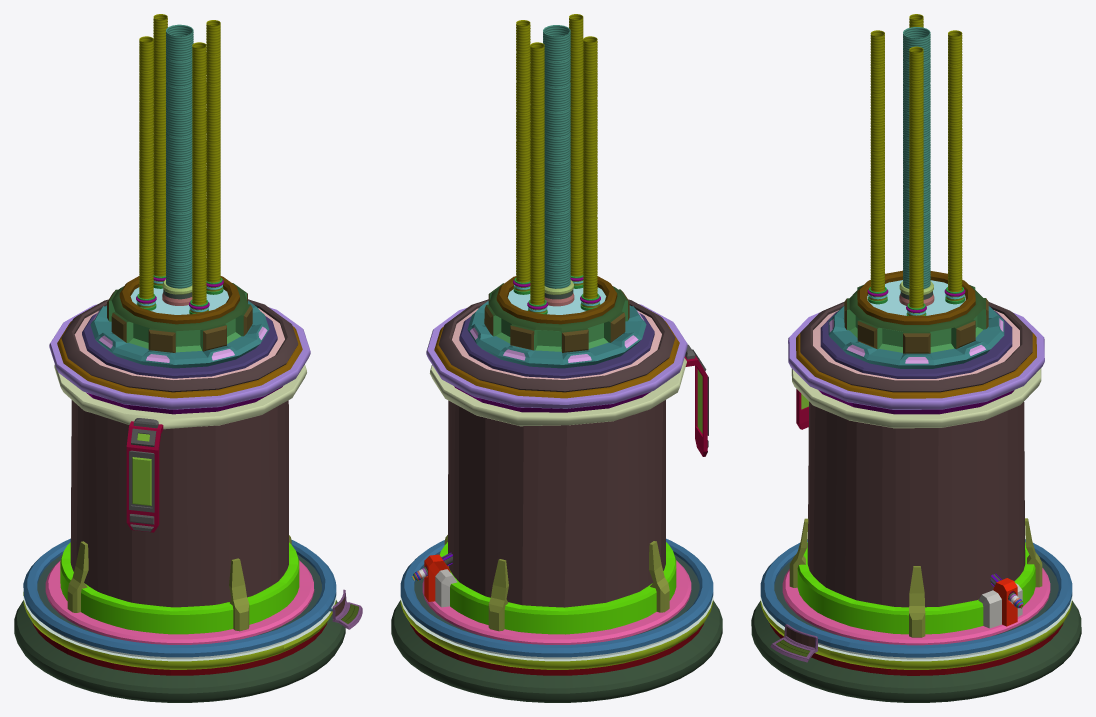
The model's file is RedoneCreatureStasisTube_V5.fbx.
The picture shows the model from 3 angles, left to right: view 1: azimuth 30°, elevation 25°; view 2: azimuth 150°, elevation 25°; view 3: azimuth 270°, elevation 25°; orthographic projection.
Visible parts, largest first — view 1: StasisTubeBottomHalf, StasisTubeGlass, StasisTubeTopHalf, SmallerRibbedTubes1, BigRibbedTube1, SmallTubePlugs, BigTubePlug; view 2: StasisTubeGlass, StasisTubeBottomHalf, StasisTubeTopHalf, SmallerRibbedTubes1, BigRibbedTube1, SmallTubePlugs, BigTubePlug; view 3: StasisTubeGlass, StasisTubeBottomHalf, StasisTubeTopHalf, SmallerRibbedTubes1, BigRibbedTube1, SmallTubePlugs.
Boxes of the visible parts, box(x1,y1,x2,y2) form: StasisTubeBottomHalf: box(14, 535, 362, 702); StasisTubeGlass: box(70, 400, 288, 607); StasisTubeTopHalf: box(49, 276, 310, 532); SmallerRibbedTubes1: box(139, 14, 220, 304); BigRibbedTube1: box(166, 24, 193, 288); SmallTubePlugs: box(136, 275, 223, 314); BigTubePlug: box(162, 279, 192, 305); StasisTubeGlass: box(448, 400, 665, 607); StasisTubeBottomHalf: box(391, 535, 722, 702); StasisTubeTopHalf: box(426, 276, 708, 456); SmallerRibbedTubes1: box(516, 14, 597, 304); BigRibbedTube1: box(543, 25, 570, 288); SmallTubePlugs: box(513, 275, 600, 314); BigTubePlug: box(544, 280, 574, 306); StasisTubeGlass: box(807, 401, 1025, 607); StasisTubeBottomHalf: box(751, 518, 1081, 702); StasisTubeTopHalf: box(788, 270, 1044, 429); SmallerRibbedTubes1: box(870, 14, 962, 308); BigRibbedTube1: box(903, 27, 930, 288); SmallTubePlugs: box(867, 287, 965, 315).
Size of the model in its own units: 23.71 by 47.83 by 23.71.
